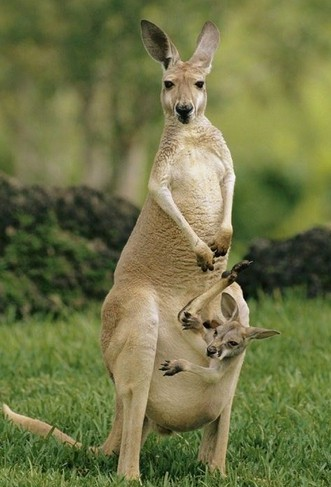kangaroo: (5, 14, 255, 484), (158, 258, 282, 376)
